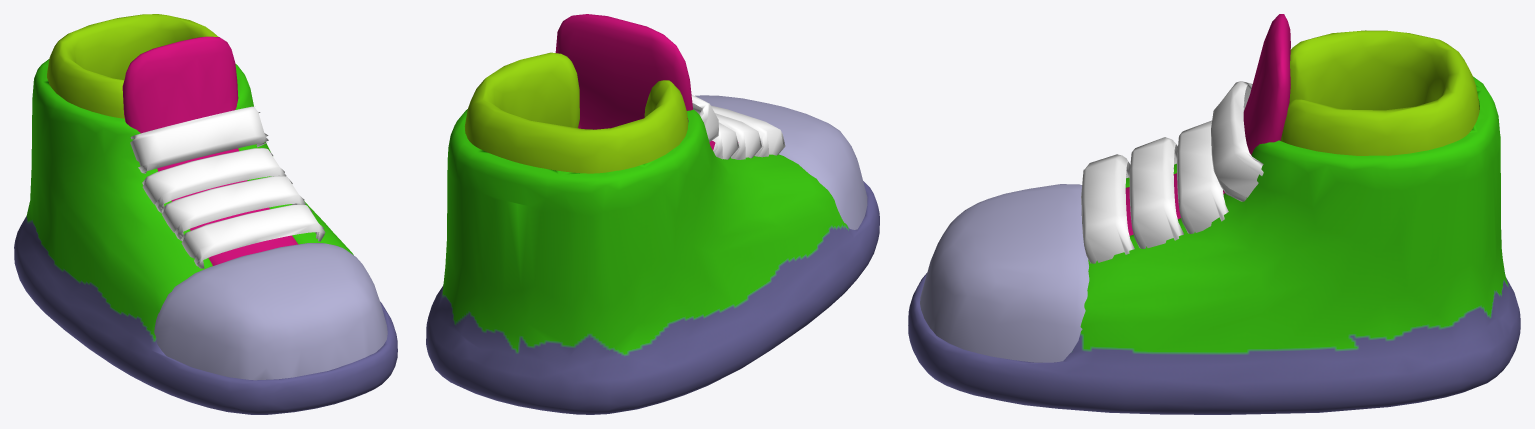
File: shoe.fbx
3 views of the same model, side by side, from view 1: azimuth 30°, elevation 25°; view 2: azimuth 150°, elevation 25°; view 3: azimuth 270°, elevation 25° (orthographic). The views are drawn at different scales.
Parts seen in each view (by area): view 1: Shoe; view 2: Shoe; view 3: Shoe.
Part boxes in pixels (bbox=[...]): Shoe: bbox=[14, 14, 397, 414]; Shoe: bbox=[426, 14, 879, 414]; Shoe: bbox=[908, 14, 1520, 414].
Size of the model in its own units: 255 by 250 by 436.
Materials: 1 (1 with a texture image).
